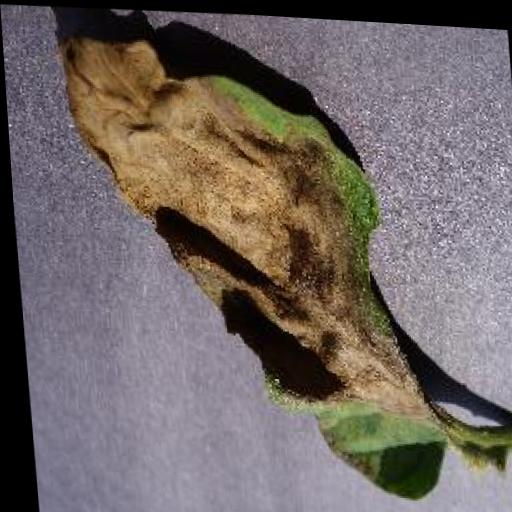Late Blight: (49, 19, 450, 508)
